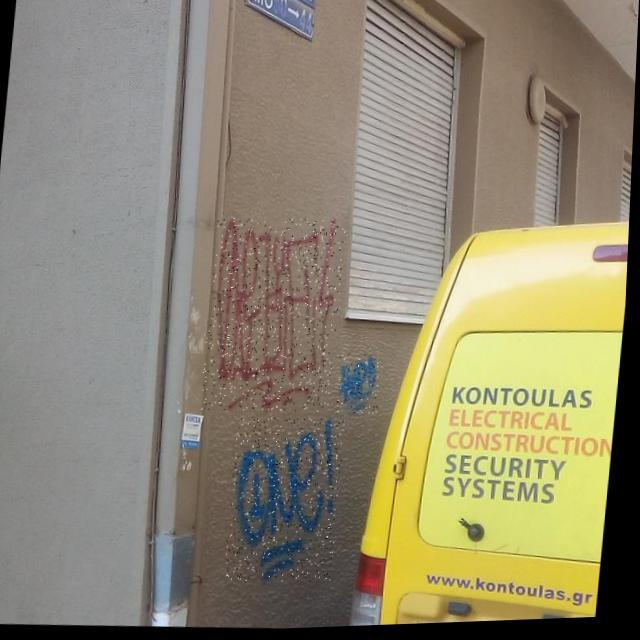-: (202, 216, 348, 418), (228, 416, 350, 588), (338, 356, 386, 420)
